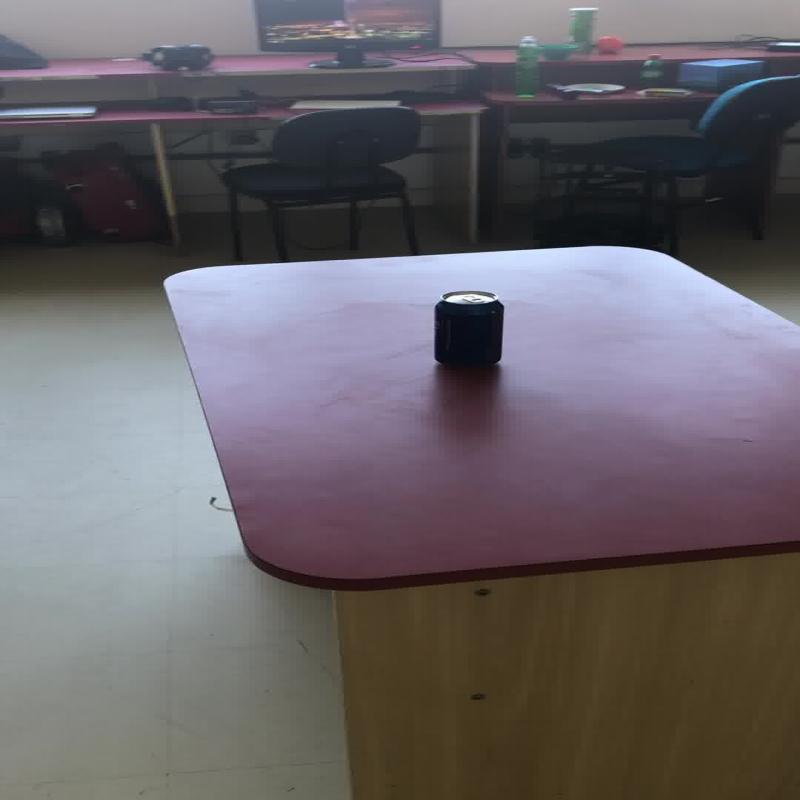tonic: (430, 289, 503, 365), (512, 36, 540, 97), (566, 6, 597, 53), (638, 53, 664, 88)
